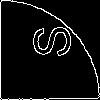S: (25, 25, 71, 58)
